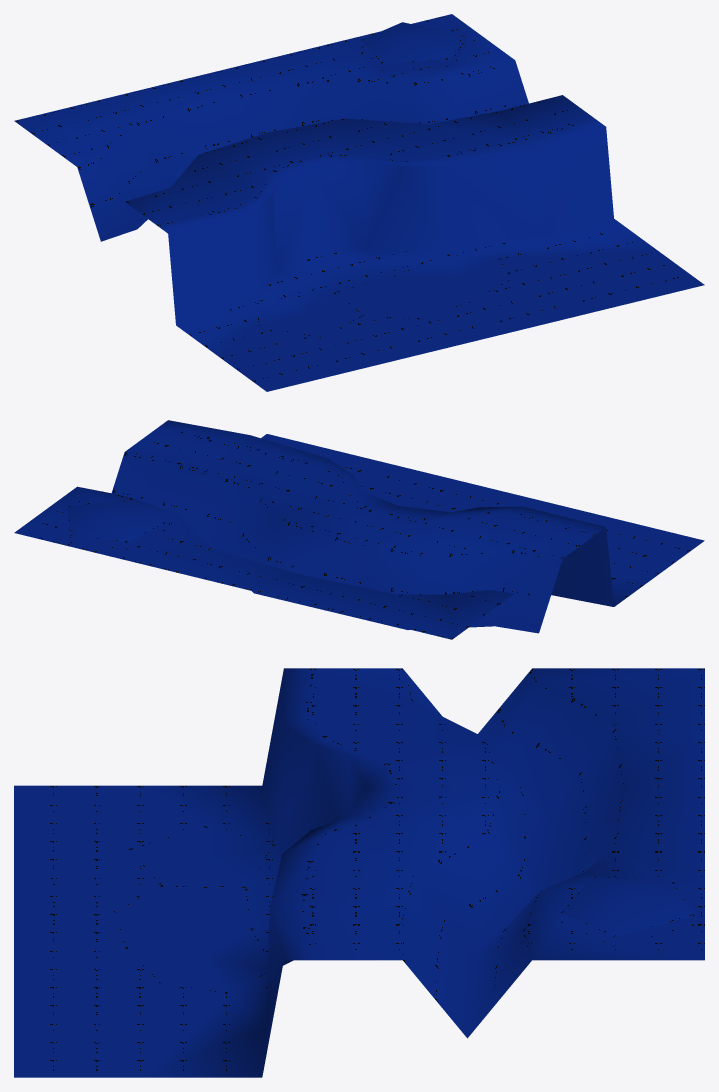
The model's file is GRD_S_C1_R3_1.fbx.
The picture shows the model from 3 angles, top to bottom: view 1: azimuth 30°, elevation 25°; view 2: azimuth 150°, elevation 25°; view 3: azimuth 270°, elevation 25°; orthographic projection. The views are drawn at different scales.
Visible parts, largest first — view 1: material_00022000, material_00052000, material_C0042000, material_C0032000, material_C0012000, material_C0062000; view 2: material_00022000, material_C0042000, material_00052000, material_C0012000, material_C0062000; view 3: material_00022000, material_C0042000, material_00052000, material_C0032000, material_C0012000, material_C0062000.
Part boxes in pixels (x1,y1,x2,y2): material_00022000: (14,14,704,391); material_00052000: (156,118,613,325); material_C0042000: (77,60,528,241); material_C0032000: (257,254,510,338); material_C0012000: (361,22,464,63); material_C0062000: (361,42,464,70); material_00022000: (14,429,704,639); material_C0042000: (111,452,562,633); material_00052000: (156,420,613,606); material_C0012000: (67,500,165,542); material_C0062000: (67,513,165,549); material_00022000: (14,668,704,1077); material_C0042000: (400,668,625,1038); material_00052000: (262,668,399,1076); material_C0032000: (112,825,275,993); material_C0012000: (560,876,695,936); material_C0062000: (560,916,695,946).
Bounding box in the file's own units: 12800 × 2800 × 12800.
